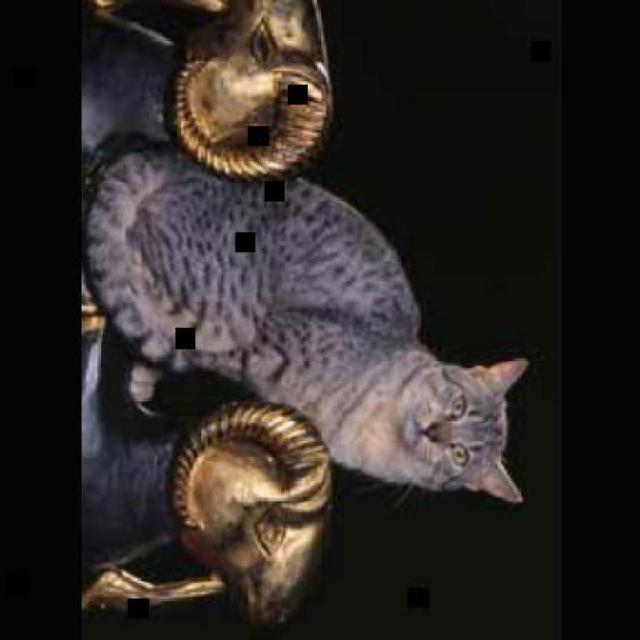unauthorized: (82, 131, 529, 506)
